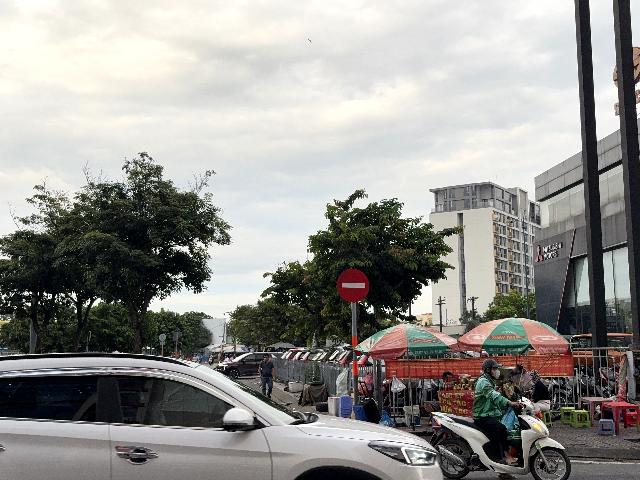cam-di-nguoc-chieu: (337, 269, 369, 303)
